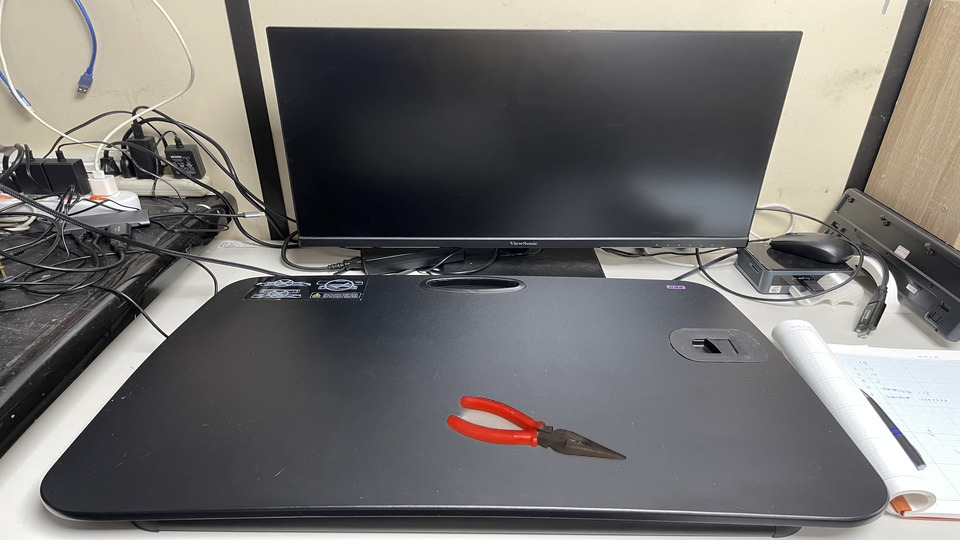blade: (472, 394, 568, 408)
round_grasp: (394, 378, 475, 425)
